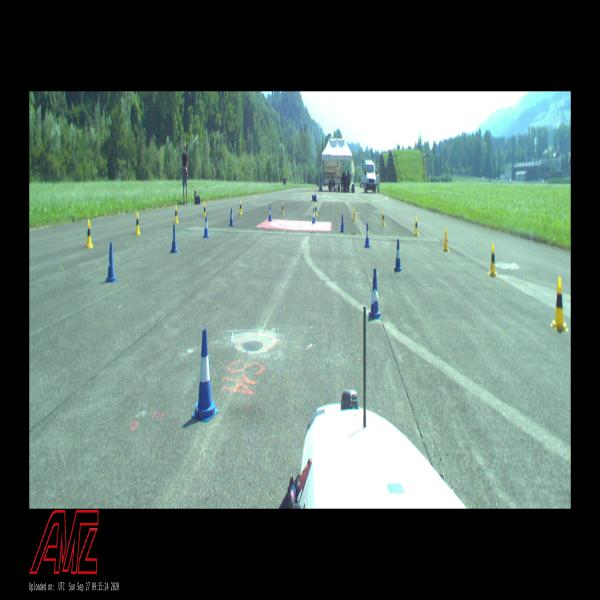blue_cone: (195, 329, 215, 418), (369, 268, 380, 319), (106, 242, 116, 281), (394, 240, 402, 272), (171, 225, 177, 252), (365, 224, 370, 247), (340, 214, 345, 232), (204, 216, 208, 237), (230, 208, 234, 226), (268, 206, 272, 221), (312, 208, 316, 223), (315, 195, 318, 202)
yellow_cone: (552, 277, 566, 330), (489, 243, 497, 277), (86, 220, 93, 248), (443, 228, 449, 252), (414, 216, 419, 235), (136, 212, 140, 235), (174, 205, 178, 223), (382, 211, 386, 226), (203, 202, 206, 218), (353, 207, 356, 221), (239, 201, 242, 214), (315, 203, 318, 216), (282, 202, 284, 215)
